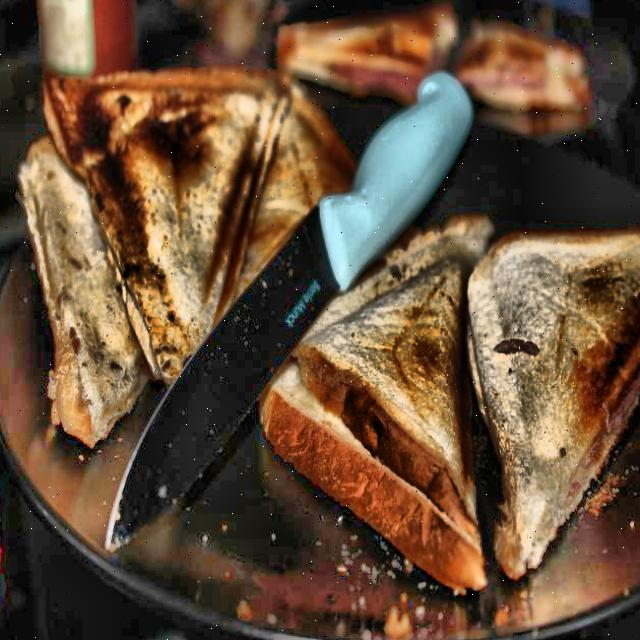knife: (104, 66, 478, 556)
